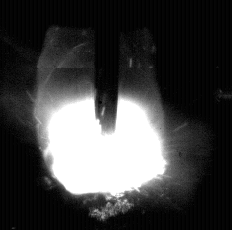arame: (95, 0, 119, 133)
poca: (37, 0, 163, 230)
